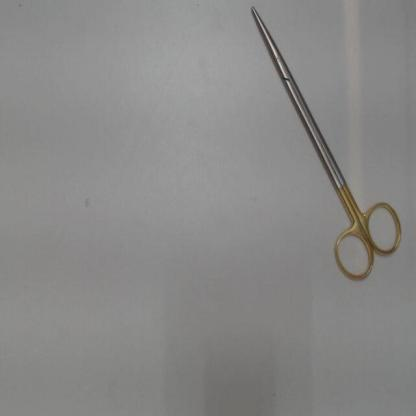7 Metzenbaum Scissors: (256, 20, 405, 285)
